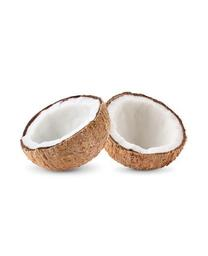coconut: (18, 94, 110, 170), (97, 93, 185, 172)
